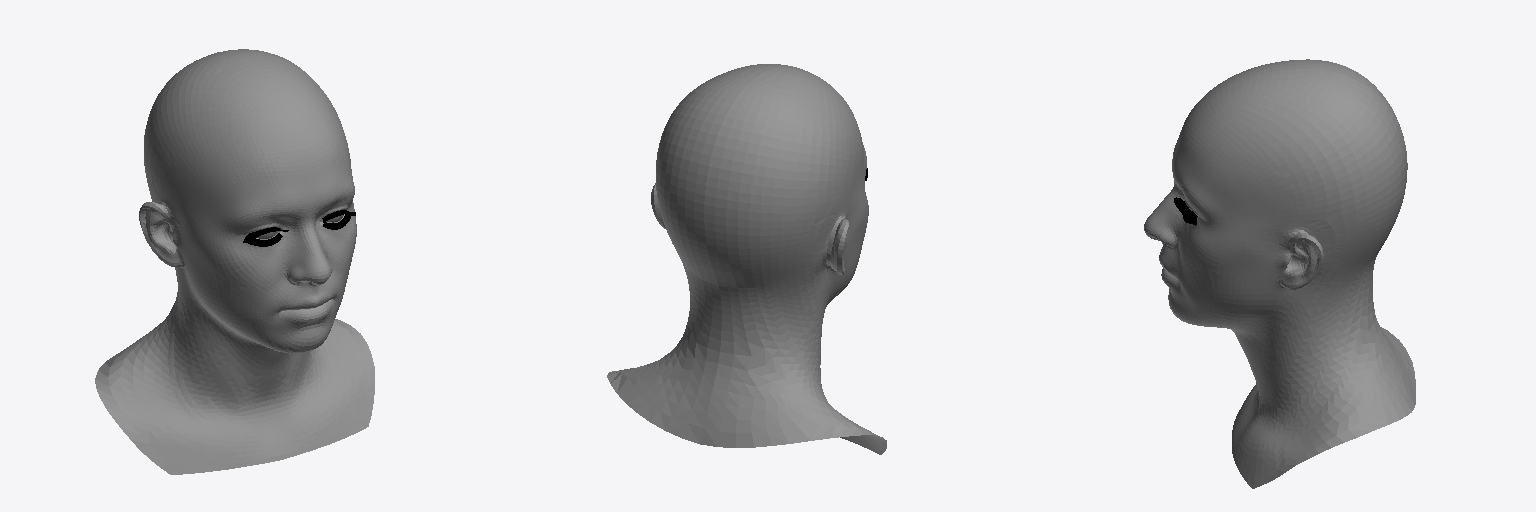
The model's file is identity026.obj.
3 renders of one model, left to right at view 1: azimuth 30°, elevation 25°; view 2: azimuth 150°, elevation 25°; view 3: azimuth 270°, elevation 25°, orthographic.
Bounding box in the file's own units: 24.83 × 33.85 × 22.32.